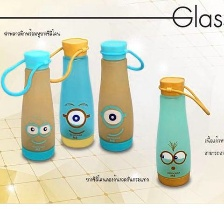bottle: (0, 47, 58, 167), (153, 75, 211, 191), (96, 36, 149, 156), (56, 33, 97, 155)
